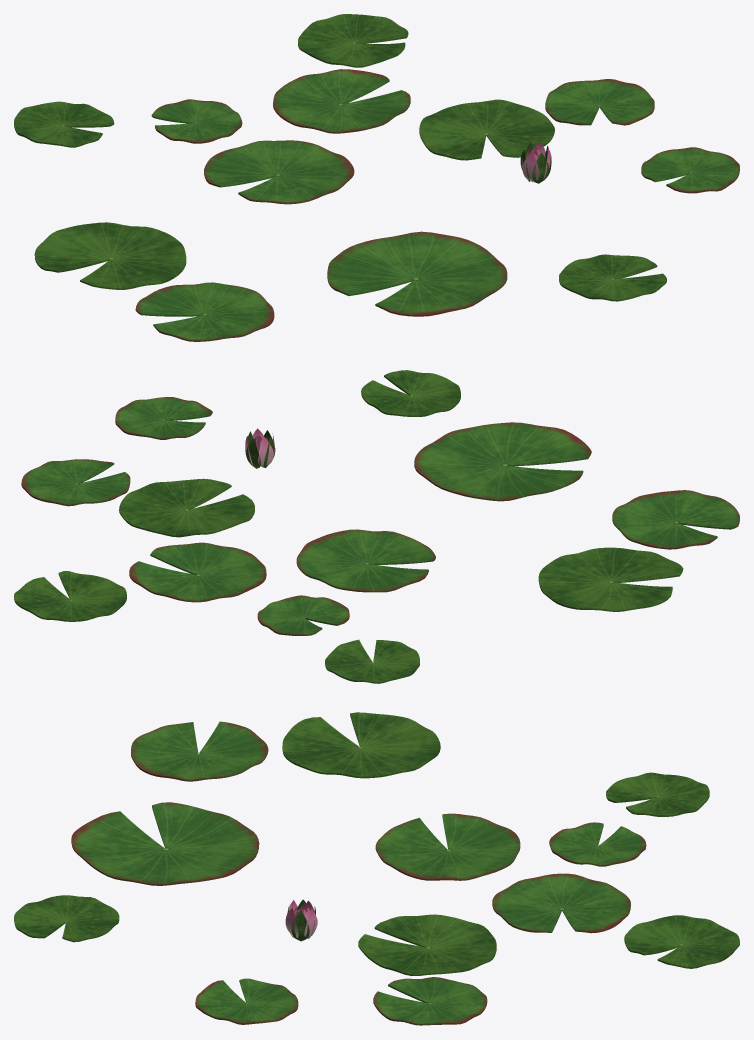
Rendered from lily_pads_b.gltf.
3 views of the same model, one above another, from view 1: azimuth 30°, elevation 25°; view 2: azimuth 150°, elevation 25°; view 3: azimuth 270°, elevation 25° (orthographic). The views are drawn at different scales.
Visible parts, largest first — view 1: lily_pads_b; view 2: lily_pads_b; view 3: lily_pads_b.
Part boxes in pixels (x1,y1,x2,y2): lily_pads_b: (14, 14, 739, 341); lily_pads_b: (14, 370, 739, 683); lily_pads_b: (14, 712, 739, 1025).
Size of the model in its own units: 1.27 by 0.0743 by 1.25.
Materials: 1 (1 with a texture image).
